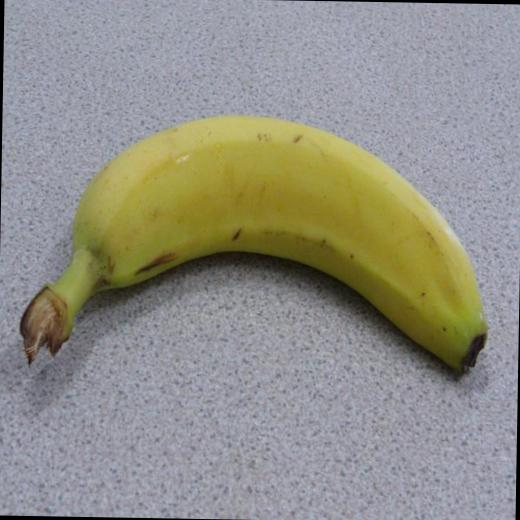Banana: (16, 110, 491, 384)
